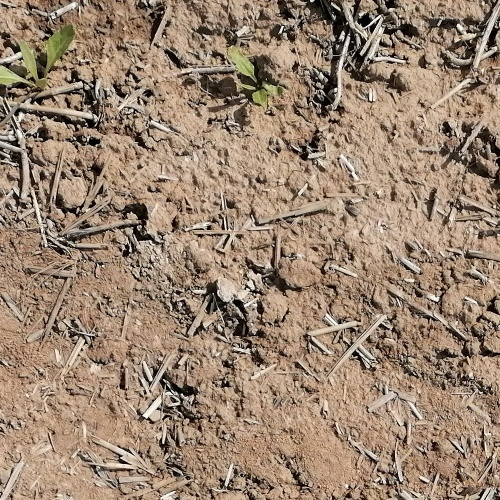beet: (0, 23, 74, 88), (228, 46, 286, 110)
